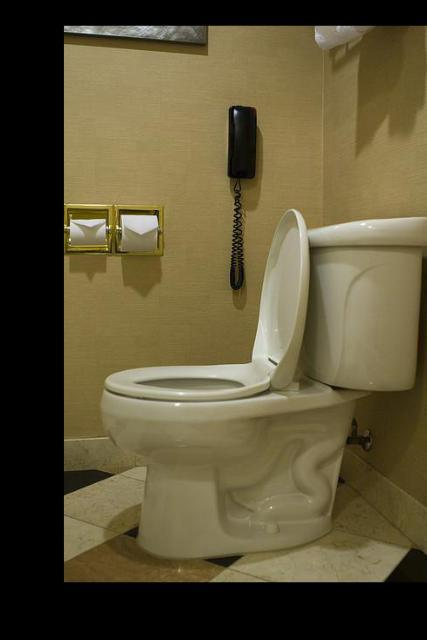Sanitario: (97, 205, 423, 565)
